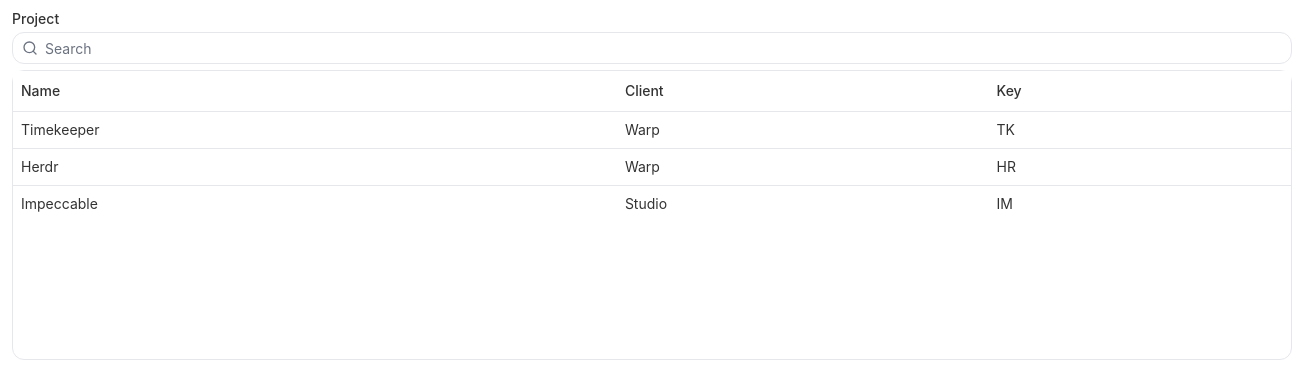
Scenario: ProjectPicker.Root › filters by title, subtitle, and badge as the user types
This screenshot has width=1304, height=377.
Type "studio" into the field with placeholder "Search" at {"x": 652, "y": 48}, box [12, 32, 1292, 64]
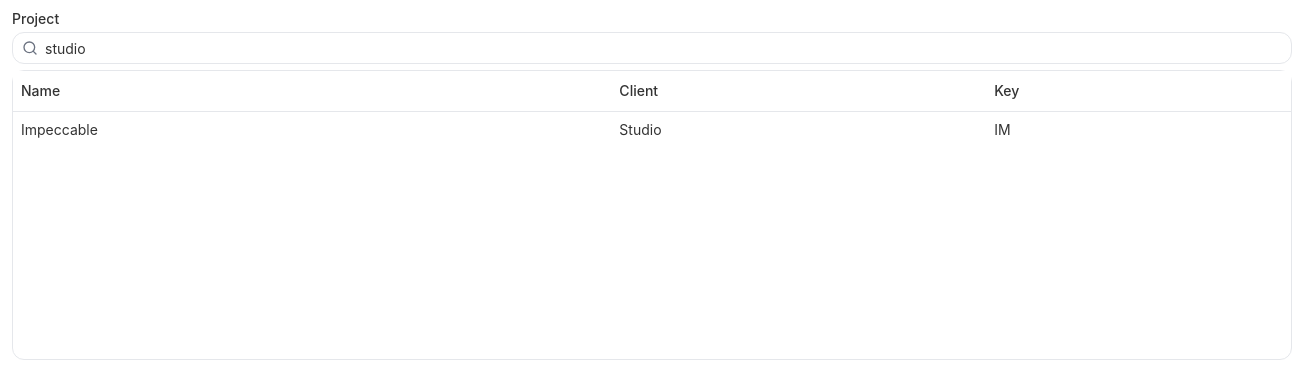
Check: the text "Impeccable" is shown, box [13, 111, 611, 148]
Check: the option "Timekeeper" is gone
